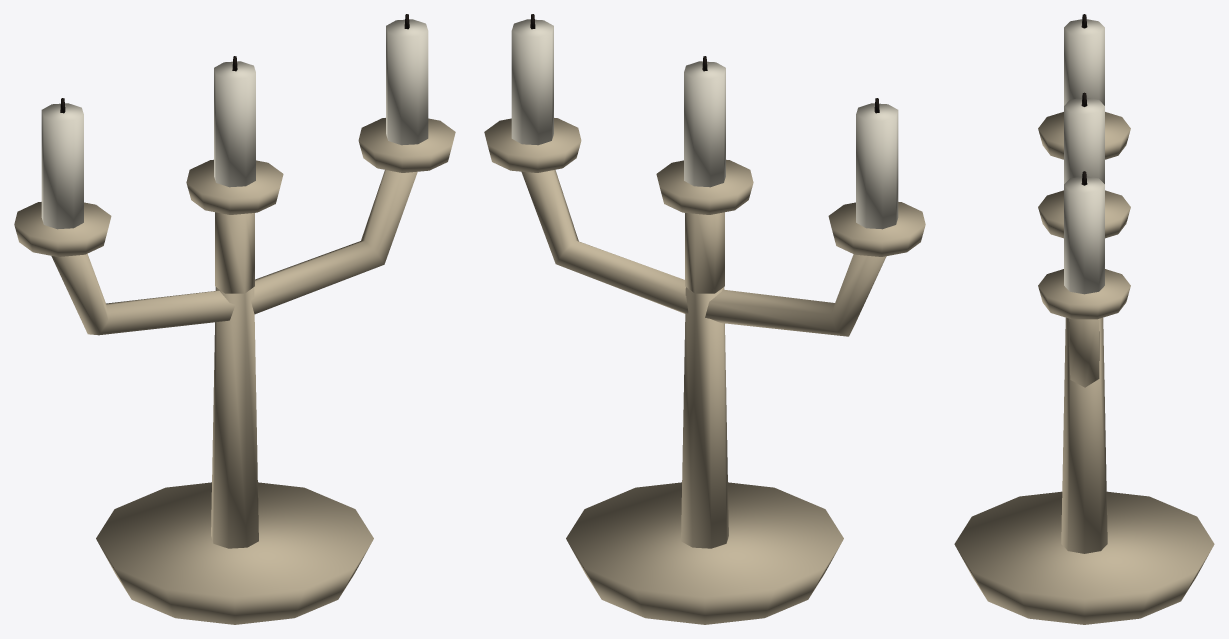
File: boreal_candelabra_v0.glb
3 views of the same model, side by side, from view 1: azimuth 30°, elevation 25°; view 2: azimuth 150°, elevation 25°; view 3: azimuth 270°, elevation 25° (orthographic). The views are drawn at different scales.
Visible parts, largest first — view 1: boreal_candelabra_v0; view 2: boreal_candelabra_v0; view 3: boreal_candelabra_v0.
Boxes of the visible parts, x1,y1,x2,y2 form: boreal_candelabra_v0: (14,14,455,624); boreal_candelabra_v0: (484,14,925,624); boreal_candelabra_v0: (954,14,1214,624).
Size of the model in its own units: 0.4951 by 0.575 by 0.28.
